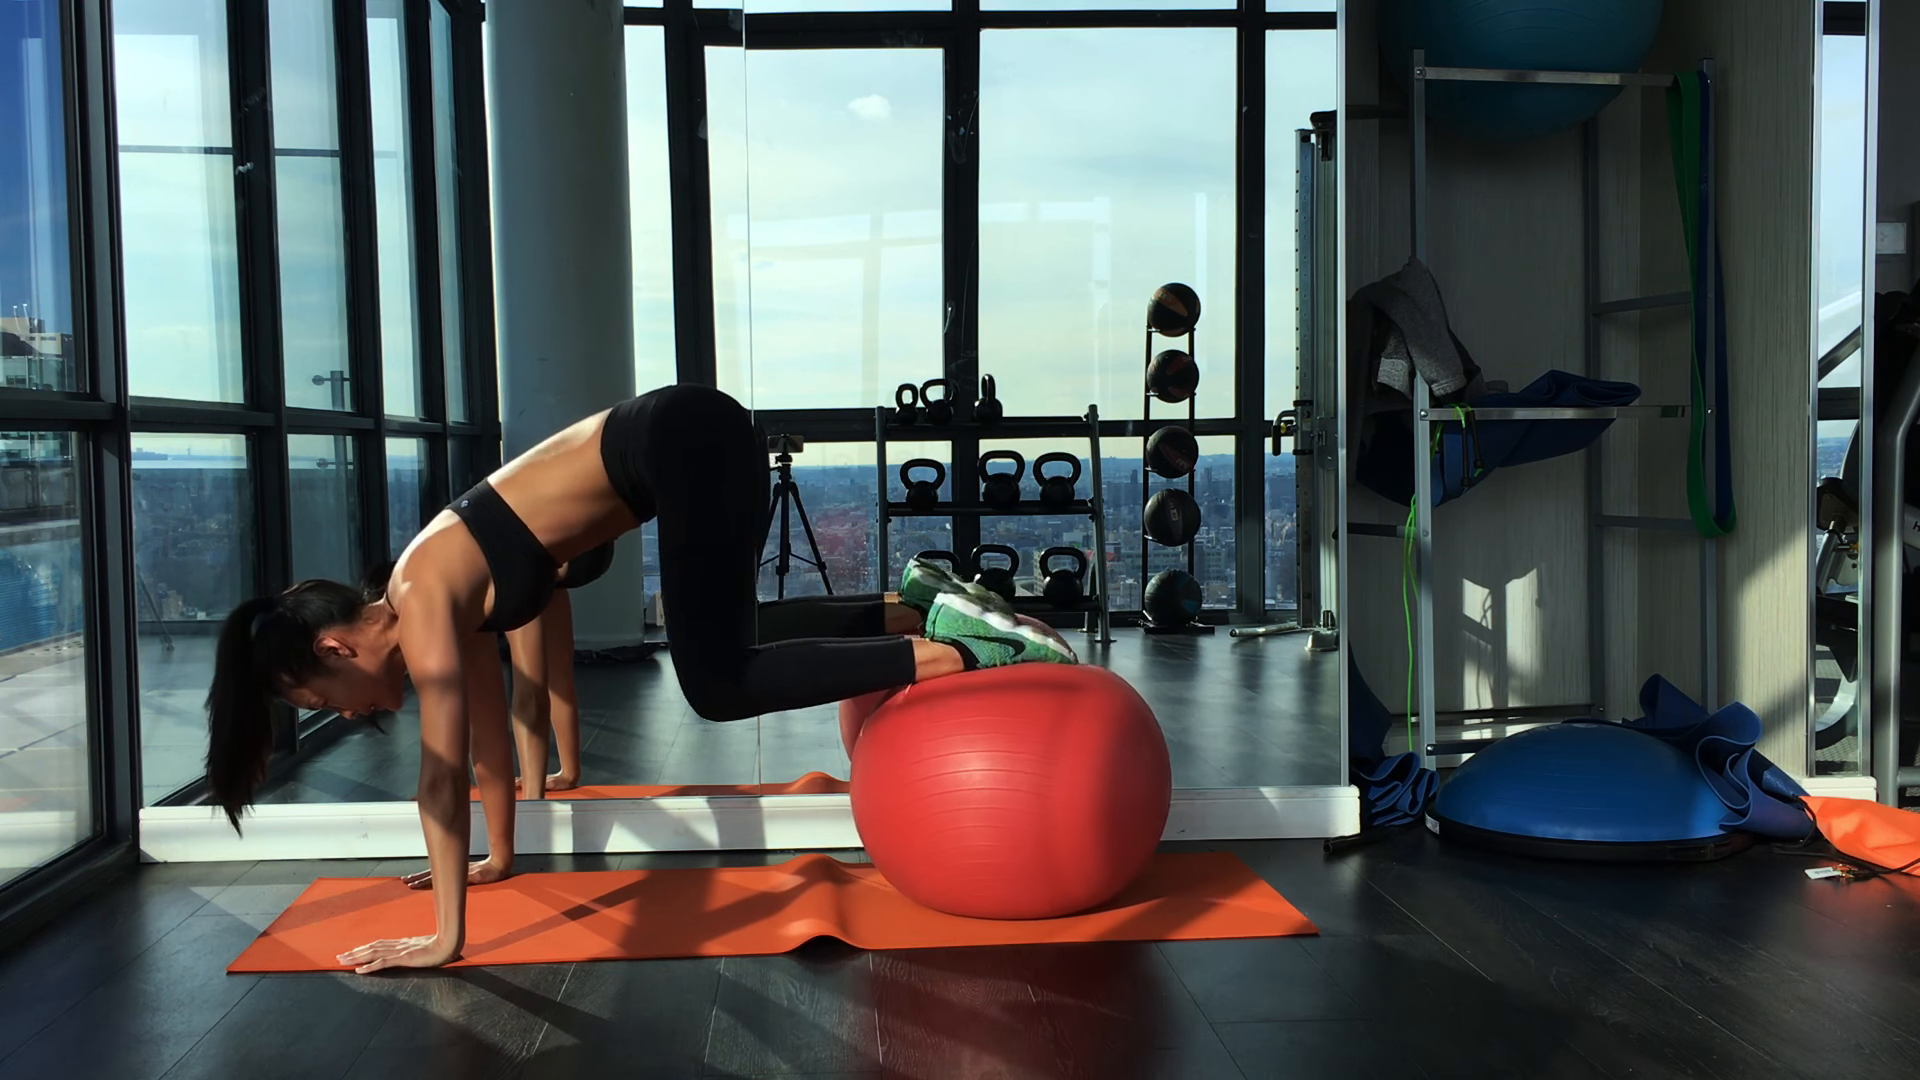yogaball: (833, 659, 1216, 927)
